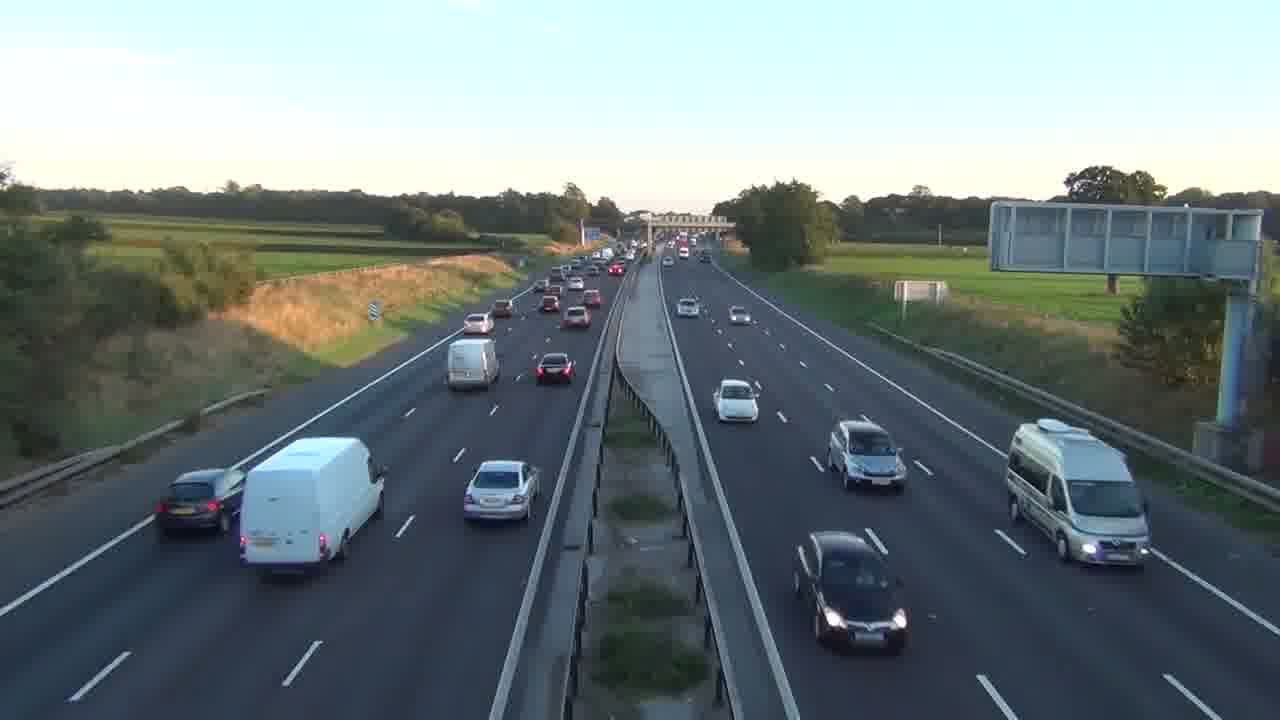car: (792, 528, 911, 655), (153, 466, 245, 537), (463, 459, 542, 523), (713, 377, 761, 424), (534, 351, 576, 386), (560, 304, 592, 329), (675, 295, 702, 318)
truck: (1004, 417, 1152, 568), (238, 435, 387, 576), (446, 337, 501, 392)
